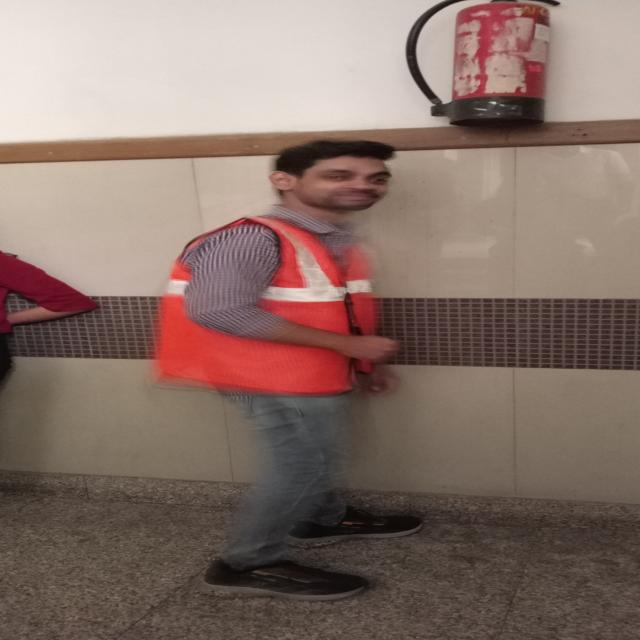unsafe: (154, 131, 443, 607)
